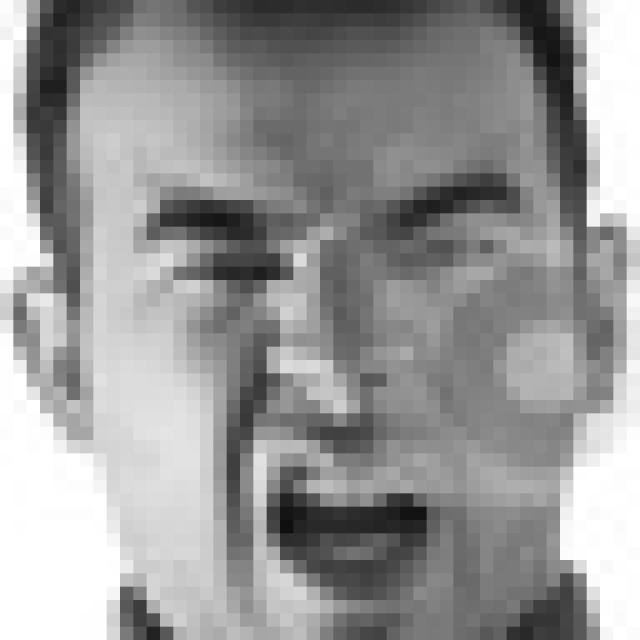disgust: (143, 179, 532, 618)
